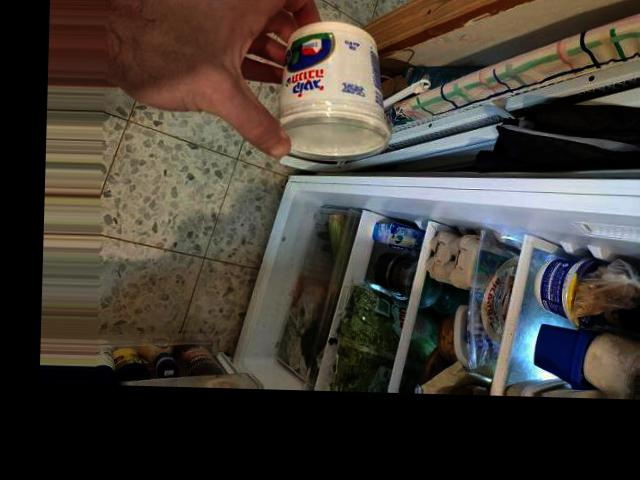cotage: (268, 30, 381, 152)
